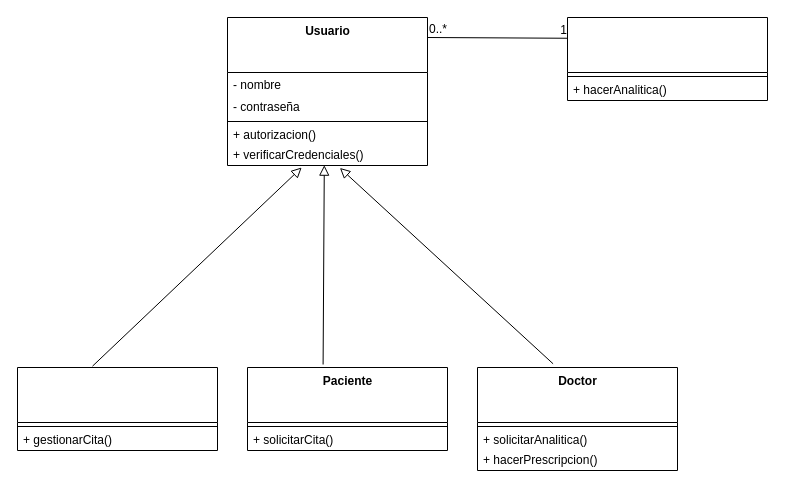
Some shapes in this 785 by 488 pixel diagram are drawn without their labels. The box of each missing label's shape, as (x1, y1, x2, y2) in pixels:
Administrador: (16, 366, 218, 450)
Laboratorio: (566, 16, 768, 100)
